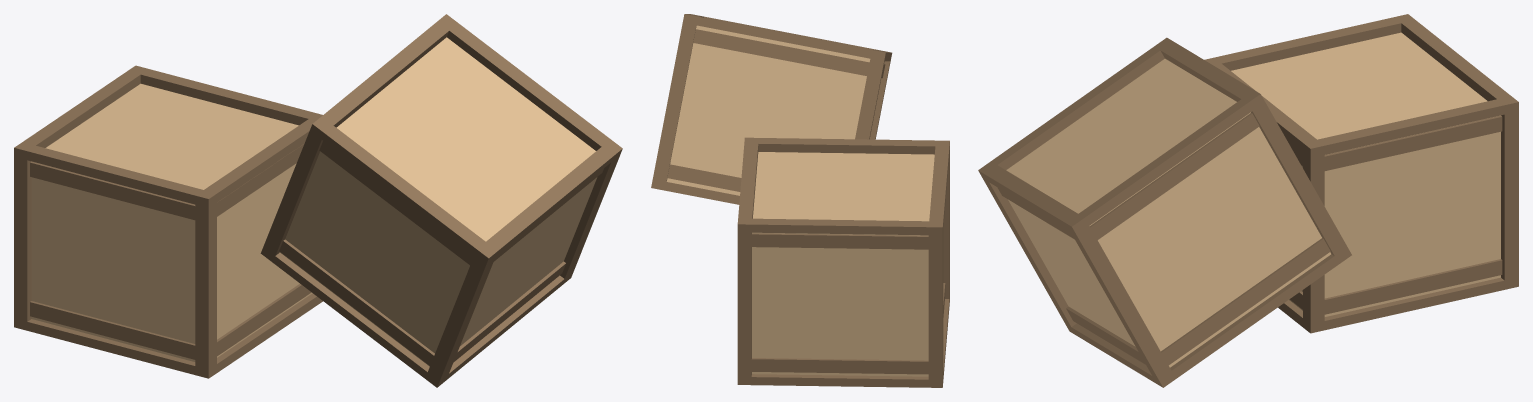
The model's file is grotto_crate_pile_of_2.fbx.
3 views of the same model, side by side, from view 1: azimuth 30°, elevation 25°; view 2: azimuth 150°, elevation 25°; view 3: azimuth 270°, elevation 25° (orthographic). The views are drawn at different scales.
Parts seen in each view (by area): view 1: Crate_Wood.004, Crate_Wood.003, Crate_CornerPost_3.003, Crate_TopFrame.018, Crate_TopFrame.019, Crate_CornerPost_2.003, Crate_CornerPost_0.004, Crate_TopFrame.015, Crate_TopFrame.014, Crate_TopFrame.016, Crate_TopFrame.017, Crate_Band.027 (+14 smaller); view 2: Crate_Wood.003, Crate_Wood.004, Crate_CornerPost_2.003, Crate_CornerPost_3.004, Crate_Band.037, Crate_Band.028, Crate_TopFrame.013, Crate_TopFrame.012, Crate_Band.024, Crate_CornerPost_0.003, Crate_BotFrame.012, Crate_TopFrame.017 (+9 smaller); view 3: Crate_Wood.004, Crate_Wood.003, Crate_CornerPost_2.004, Crate_CornerPost_3.004, Crate_CornerPost_0.003, Crate_TopFrame.019, Crate_TopFrame.018, Crate_Band.035, Crate_Band.039, Crate_TopFrame.014, Crate_TopFrame.015, Crate_Band.026 (+12 smaller).
Part boxes in pixels (box(x1,y1,x2,y2)): Crate_Wood.004: box(280, 37, 597, 366); Crate_Wood.003: box(31, 83, 312, 361); Crate_CornerPost_3.003: box(195, 190, 216, 378); Crate_TopFrame.018: box(322, 126, 485, 255); Crate_TopFrame.019: box(447, 23, 610, 150); Crate_CornerPost_2.003: box(14, 142, 35, 330); Crate_CornerPost_0.004: box(425, 242, 497, 387); Crate_TopFrame.015: box(27, 145, 203, 204); Crate_TopFrame.014: box(140, 69, 316, 125); Crate_TopFrame.016: box(486, 147, 613, 256); Crate_TopFrame.017: box(322, 21, 448, 127); Crate_Band.027: box(30, 301, 195, 359); Crate_Wood.003: box(752, 152, 934, 376); Crate_Wood.004: box(666, 25, 870, 195); Crate_CornerPost_2.003: box(928, 221, 943, 387); Crate_CornerPost_3.004: box(651, 14, 697, 190); Crate_Band.037: box(693, 29, 869, 75); Crate_Band.028: box(751, 233, 928, 249); Crate_TopFrame.013: box(758, 138, 935, 154); Crate_TopFrame.012: box(751, 218, 929, 235); Crate_Band.024: box(751, 358, 928, 374); Crate_CornerPost_0.003: box(737, 218, 751, 385); Crate_BotFrame.012: box(751, 374, 928, 387); Crate_TopFrame.017: box(696, 16, 871, 58); Crate_Wood.004: box(1006, 58, 1330, 367); Crate_Wood.003: box(1231, 32, 1500, 316); Crate_CornerPost_2.004: box(1065, 214, 1175, 387); Crate_CornerPost_3.004: box(1241, 90, 1351, 263); Crate_CornerPost_0.003: box(1497, 96, 1518, 289); Crate_TopFrame.019: box(1078, 99, 1251, 225); Crate_TopFrame.018: box(991, 47, 1164, 169); Crate_Band.035: box(1161, 238, 1330, 365); Crate_Band.039: box(1090, 113, 1259, 239); Crate_TopFrame.014: box(1317, 99, 1504, 154); Crate_TopFrame.015: box(1214, 17, 1401, 70); Crate_Band.026: box(1324, 259, 1502, 314).
Size of the model in its own units: 7.21 by 4.35 by 7.38.
